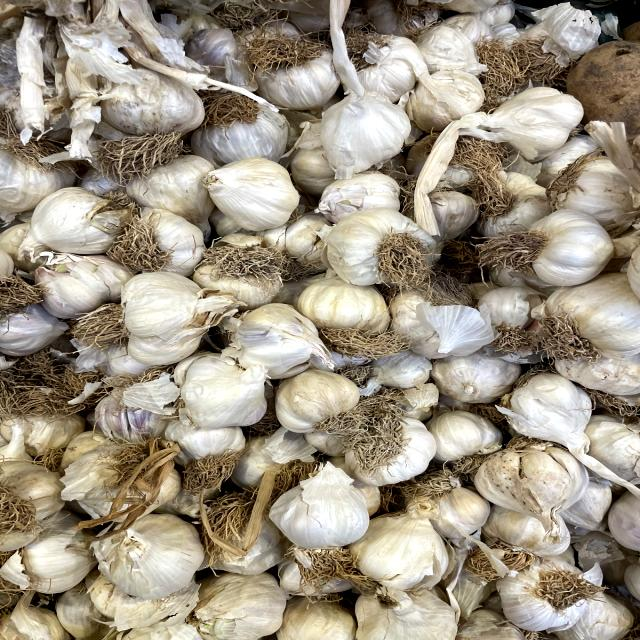garlic: (256, 464, 384, 583), (482, 203, 622, 297), (314, 207, 446, 298), (198, 151, 306, 238)
